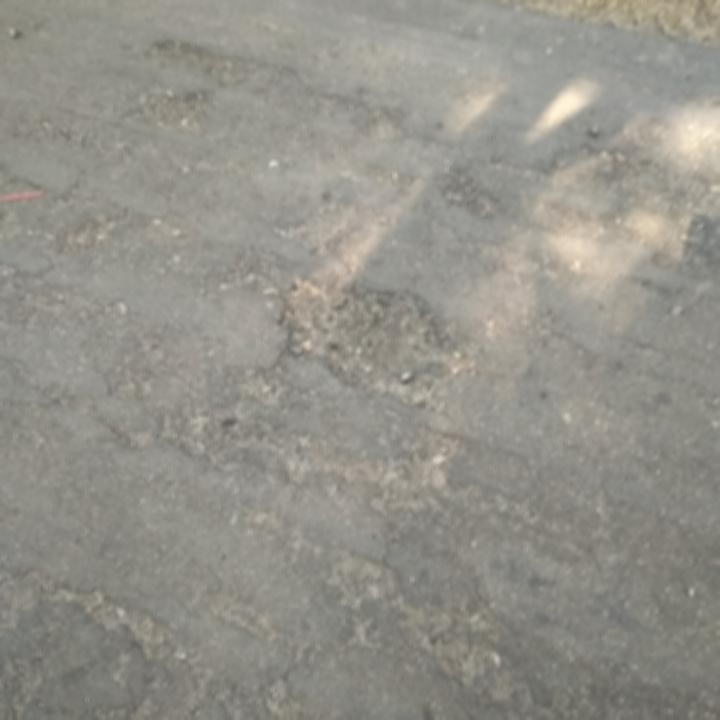pothole: (268, 268, 482, 408)
